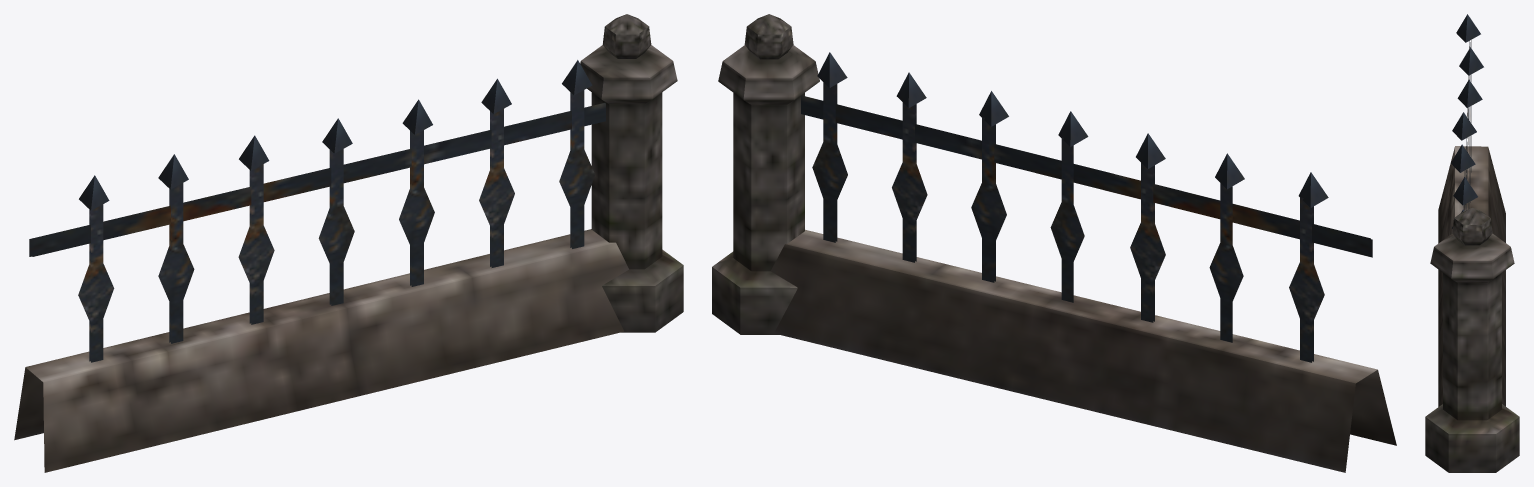
File: SM_zhucheng_hulan02.FBX
3 renders of one model, left to right at view 1: azimuth 30°, elevation 25°; view 2: azimuth 150°, elevation 25°; view 3: azimuth 270°, elevation 25°, orthographic. The views are drawn at different scales.
Parts seen in each view (by area): view 1: SM_zhucheng_hulan02; view 2: SM_zhucheng_hulan02; view 3: SM_zhucheng_hulan02.
Boxes of the visible parts, <box> form: SM_zhucheng_hulan02: <box>14,14,683,472</box>; SM_zhucheng_hulan02: <box>712,14,1396,472</box>; SM_zhucheng_hulan02: <box>1425,14,1519,472</box>.
Size of the model in its own units: 85.23 by 37.58 by 12.97.
